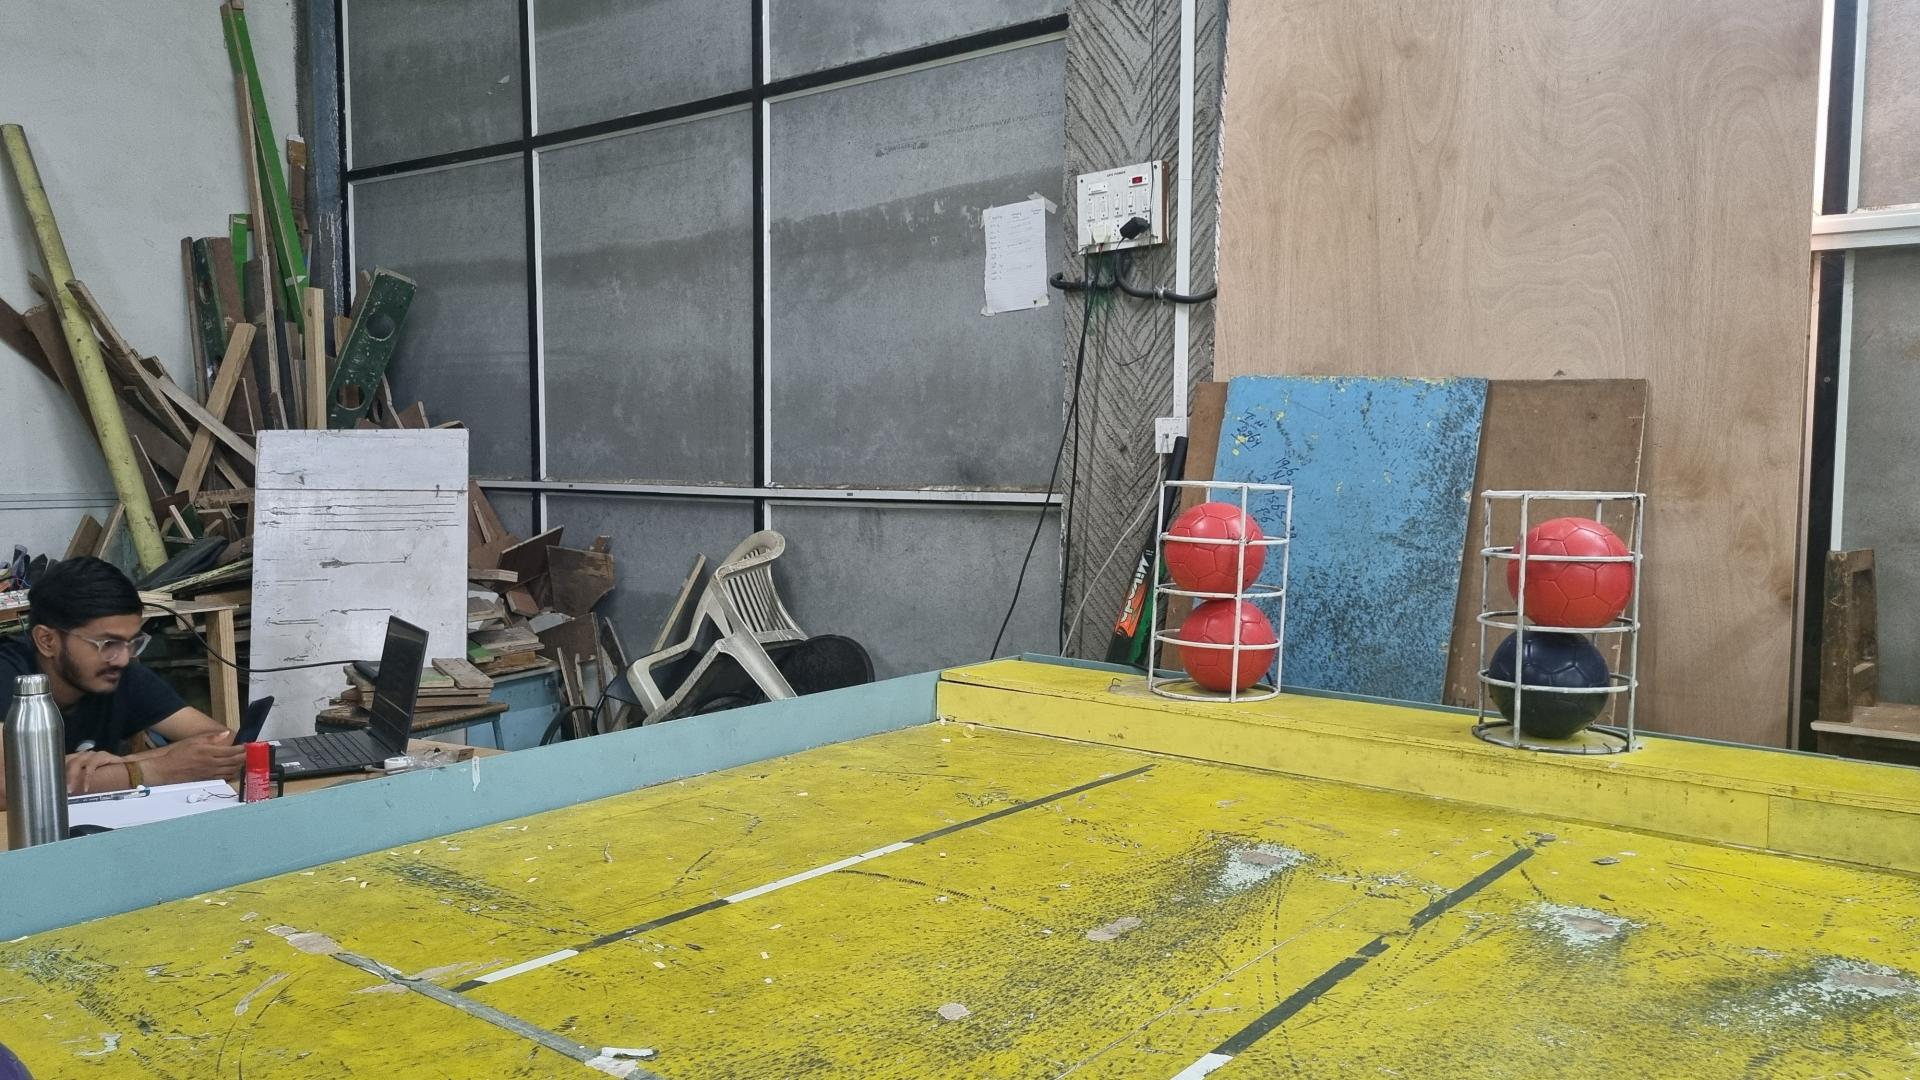dhoka: (1487, 630, 1611, 740)
laale: (1505, 518, 1633, 626), (1166, 505, 1266, 595), (1180, 601, 1278, 691)
